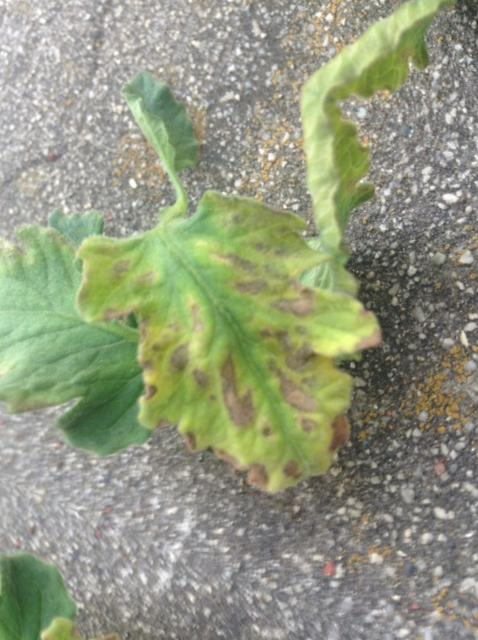Tomato mold leaf: (22, 133, 447, 523)
